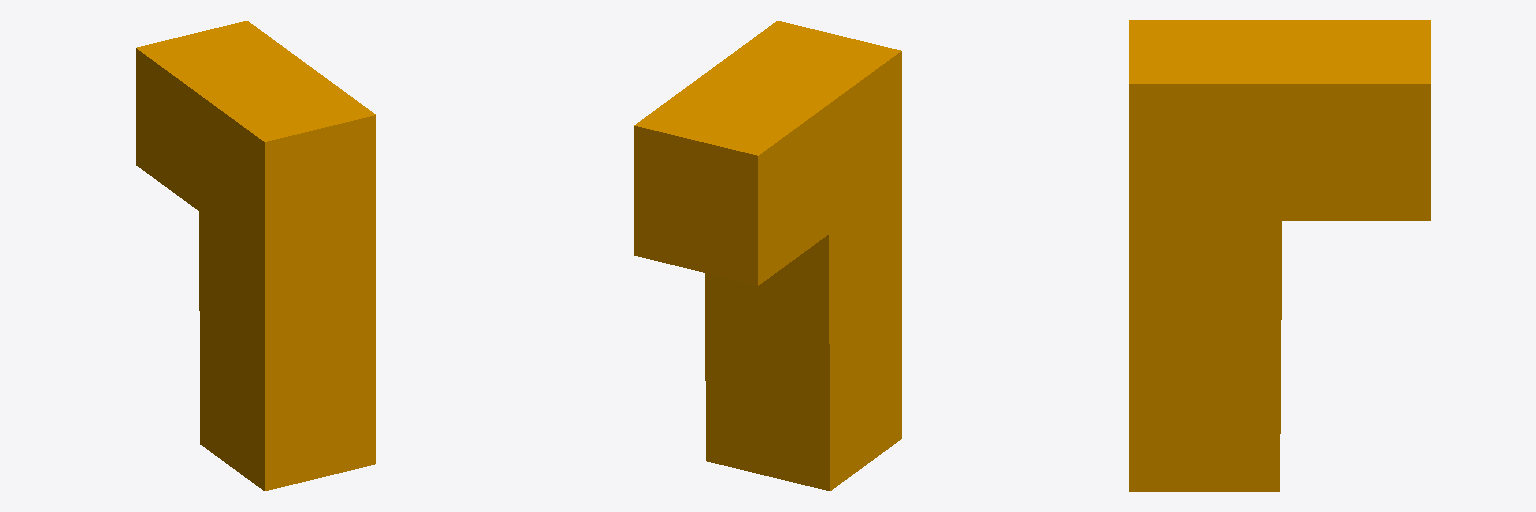
robot.urdf — 2_3L_4:
<robot name="2_3L_4">
  <link name="link">
    <visual>
      <geometry>
        <mesh filename="2_3L_4.obj" scale="1 1 1"/>
      </geometry>
    </visual>
    <collision>
      <geometry>
        <mesh filename="2_3L_4.obj" scale="1 1 1"/>
      </geometry>
    </collision>
    <inertial>
      <mass value="1"/>
      <inertia ixx="1" iyy="1" izz="1" ixy="0" ixz="0" iyz="0"/>
      <origin xyz="0 0 0" rpy="0 0 0"/>
    </inertial>
  </link>
</robot>

--- What the picture shows (computed from the rendered views, not written in the file) ---
Views: 3 orthographic renders of the robot side by side, from view 1: azimuth 30°, elevation 25°; view 2: azimuth 150°, elevation 25°; view 3: azimuth 270°, elevation 25°.
Model 2_3L_4 with 1 links and 0 joints (none), rooted at link, posed every joint at zero.
Links seen in each view (by area): view 1: link; view 2: link; view 3: link.
Boxes of the visible links, x1,y1,x2,y2 form: link: (136,21,375,490); link: (634,21,901,490); link: (1129,20,1430,491).
Size in the robot's own frame: 0.0592 by 0.1184 by 0.1767 metres.
1 mesh visuals loaded from 1 distinct referenced files (1 OBJ).